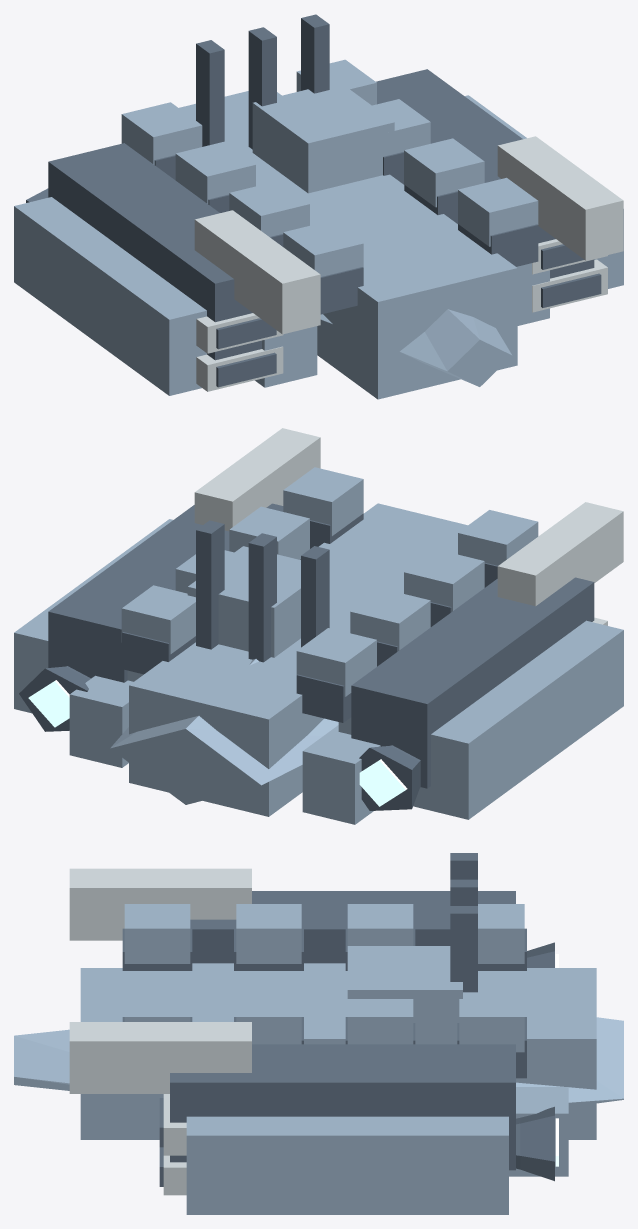
3 renders of one model, top to bottom at view 1: azimuth 30°, elevation 25°; view 2: azimuth 150°, elevation 25°; view 3: azimuth 270°, elevation 25°, orthographic. The views are drawn at different scales.
Bounding box in the file's own units: 15.61 × 7.78 × 17.5.
